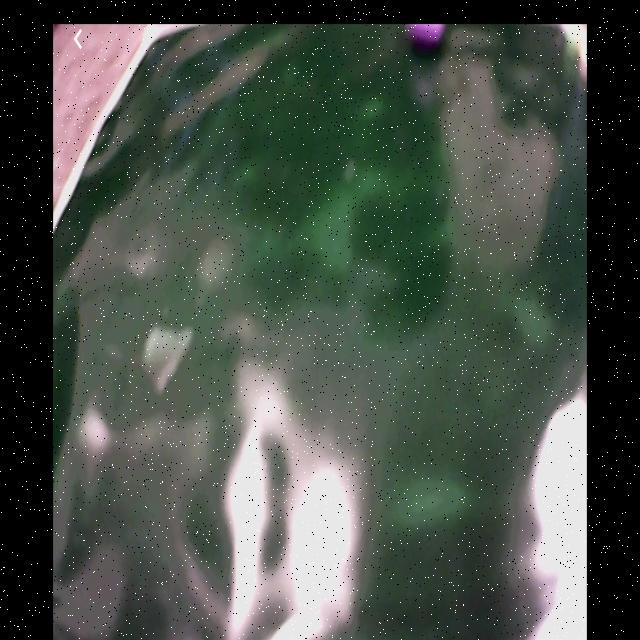ball: (407, 24, 449, 50)
